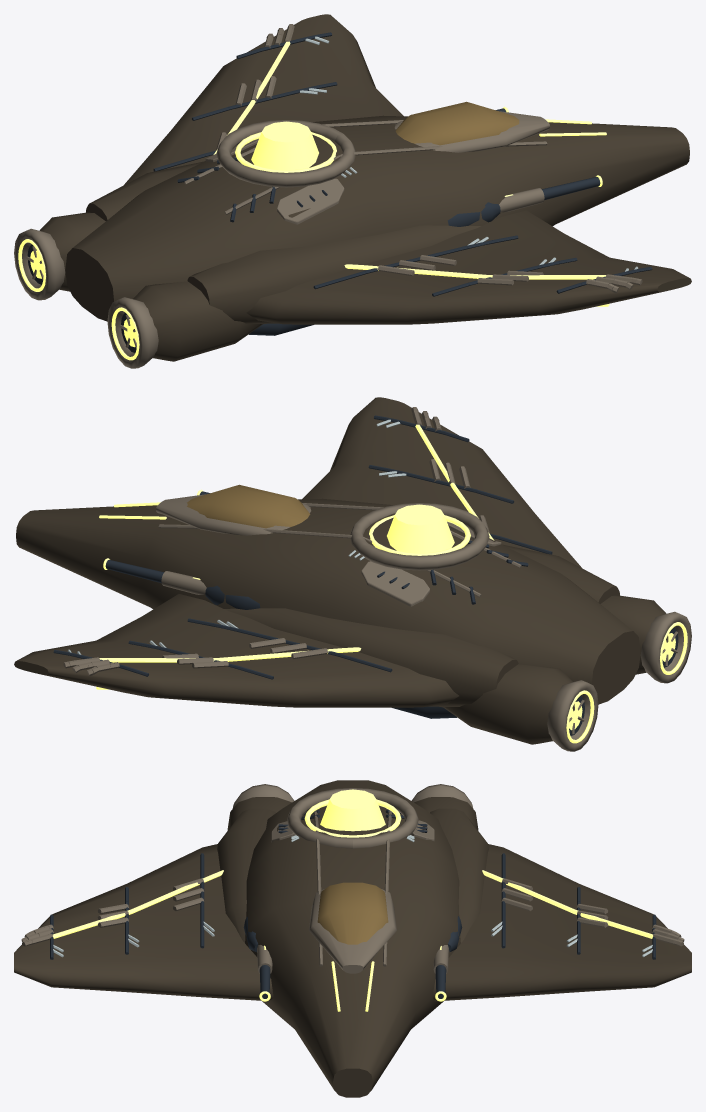
The model's file is helios.glb.
3 renders of one model, top to bottom at view 1: azimuth 30°, elevation 25°; view 2: azimuth 150°, elevation 25°; view 3: azimuth 270°, elevation 25°, orthographic. The views are drawn at different scales.
Parts seen in each view (by area): view 1: hull Hull paint, wing Hull paint, hull Brushed panel alloy, engine Brushed panel alloy, hull Hull guidance, hull Smoked canopy, wing Brushed panel alloy, wing Graphite heat armour, wing Hull guidance, engine Hull guidance, mount Graphite heat armour, hull Graphite heat armour (+1 smaller); view 2: hull Hull paint, wing Hull paint, hull Brushed panel alloy, engine Brushed panel alloy, hull Hull guidance, hull Smoked canopy, wing Brushed panel alloy, wing Graphite heat armour, wing Hull guidance, engine Hull guidance, mount Graphite heat armour, hull Graphite heat armour (+1 smaller); view 3: hull Hull paint, wing Hull paint, hull Brushed panel alloy, hull Smoked canopy, hull Hull guidance, wing Brushed panel alloy, wing Hull guidance, wing Graphite heat armour, engine Brushed panel alloy, mount Graphite heat armour, mount Brushed panel alloy, wing Service stencil.
Part boxes in pixels (x1,y1,x2,y2): hull Hull paint: [39, 115, 689, 361]; wing Hull paint: [124, 14, 691, 324]; hull Brushed panel alloy: [184, 111, 549, 224]; engine Brushed panel alloy: [14, 228, 158, 368]; hull Hull guidance: [235, 119, 606, 172]; hull Smoked canopy: [395, 101, 519, 145]; wing Brushed panel alloy: [216, 24, 642, 293]; wing Graphite heat armour: [153, 32, 652, 296]; wing Hull guidance: [213, 41, 609, 306]; engine Hull guidance: [18, 239, 139, 360]; mount Graphite heat armour: [447, 108, 600, 226]; hull Graphite heat armour: [177, 157, 327, 335]; hull Hull paint: [16, 498, 666, 744]; wing Hull paint: [14, 397, 581, 707]; hull Brushed panel alloy: [156, 494, 521, 606]; engine Brushed panel alloy: [547, 611, 691, 751]; hull Hull guidance: [99, 502, 470, 555]; hull Smoked canopy: [187, 484, 310, 528]; wing Brushed panel alloy: [63, 407, 489, 676]; wing Graphite heat armour: [53, 415, 552, 679]; wing Hull guidance: [96, 424, 494, 689]; engine Hull guidance: [566, 622, 687, 743]; mount Graphite heat armour: [105, 491, 260, 609]; hull Graphite heat armour: [377, 540, 528, 718]; hull Hull paint: [217, 780, 488, 1097]; wing Hull paint: [14, 844, 691, 1001]; hull Brushed panel alloy: [271, 788, 434, 973]; hull Smoked canopy: [317, 882, 388, 944]; hull Hull guidance: [304, 789, 401, 1011]; wing Brushed panel alloy: [21, 878, 684, 946]; wing Hull guidance: [53, 870, 652, 938]; wing Graphite heat armour: [50, 853, 656, 959]; engine Brushed panel alloy: [232, 784, 473, 808]; mount Graphite heat armour: [243, 916, 462, 998]; mount Brushed panel alloy: [257, 945, 448, 973]; wing Service stencil: [53, 921, 652, 957].
Bounding box in the file's own units: 52.02 × 14.27 × 54.
